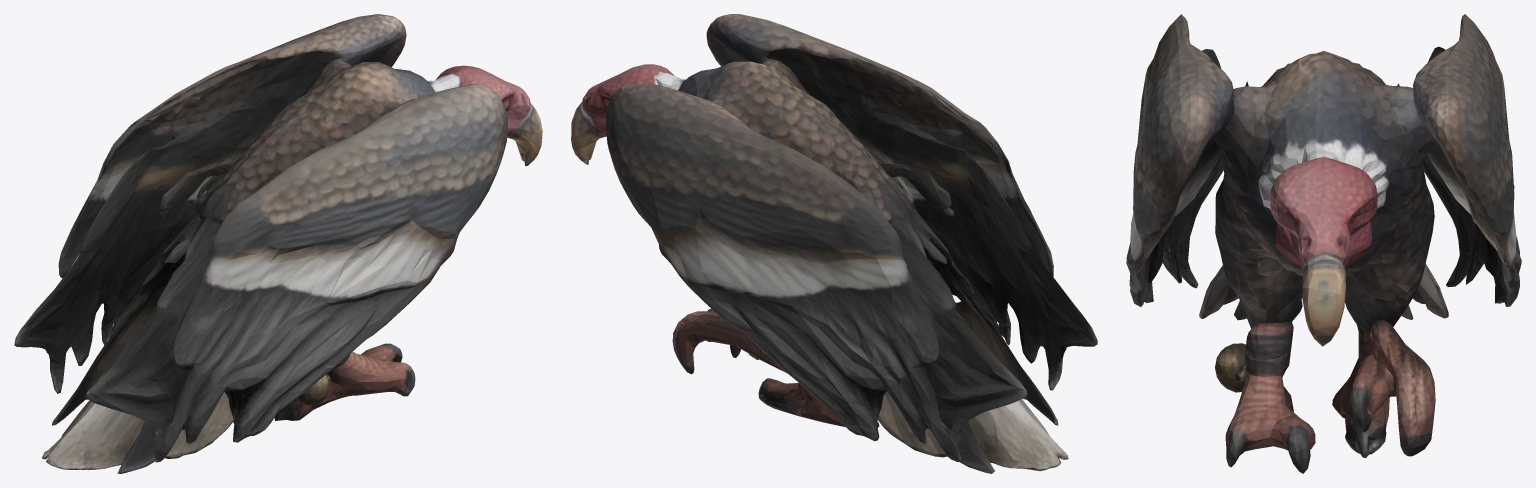
Rendered from redCondor.glb.
3 views of the same model, side by side, from view 1: azimuth 30°, elevation 25°; view 2: azimuth 150°, elevation 25°; view 3: azimuth 270°, elevation 25° (orthographic). The views are drawn at different scales.
Visible parts, largest first — view 1: world; view 2: world; view 3: world.
Boxes of the visible parts, box(x1,y1,x2,y2) form: world: box(14, 14, 542, 473); world: box(571, 14, 1097, 473); world: box(1126, 14, 1521, 473).
Size of the model in its own units: 0.9976 by 0.6305 by 0.5269.
Materials: 1 (1 with a texture image).
